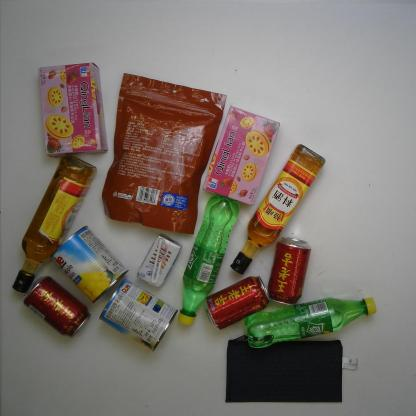Canned Food: (50, 226, 127, 301), (100, 281, 178, 351)
Dessert: (35, 52, 114, 157), (204, 102, 282, 205)
Dried Food: (96, 70, 225, 236)
Drink: (176, 192, 243, 323), (243, 290, 376, 348), (24, 276, 87, 341), (204, 275, 264, 336), (266, 237, 312, 303)
Milk: (136, 232, 184, 292)
Seasoner: (8, 150, 108, 305), (232, 136, 332, 280)
Stationery: (212, 334, 351, 411)
